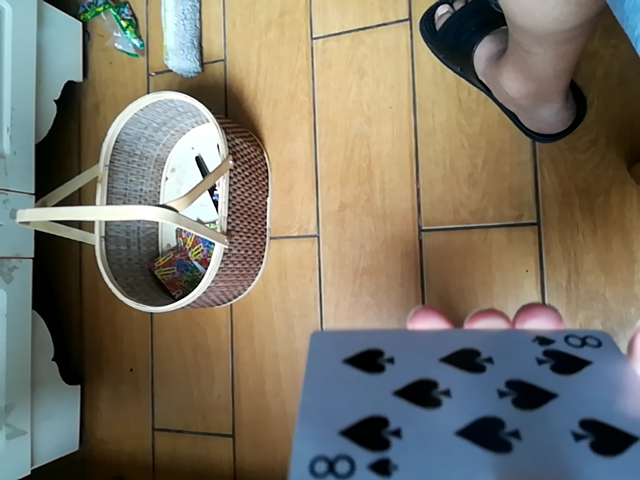ht 8: (292, 326, 637, 480)
